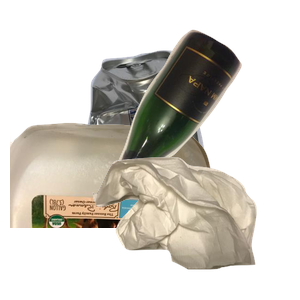glass: (87, 27, 300, 207)
metal: (85, 48, 300, 228)
plastic: (10, 120, 220, 300)
trash: (90, 155, 300, 300)
